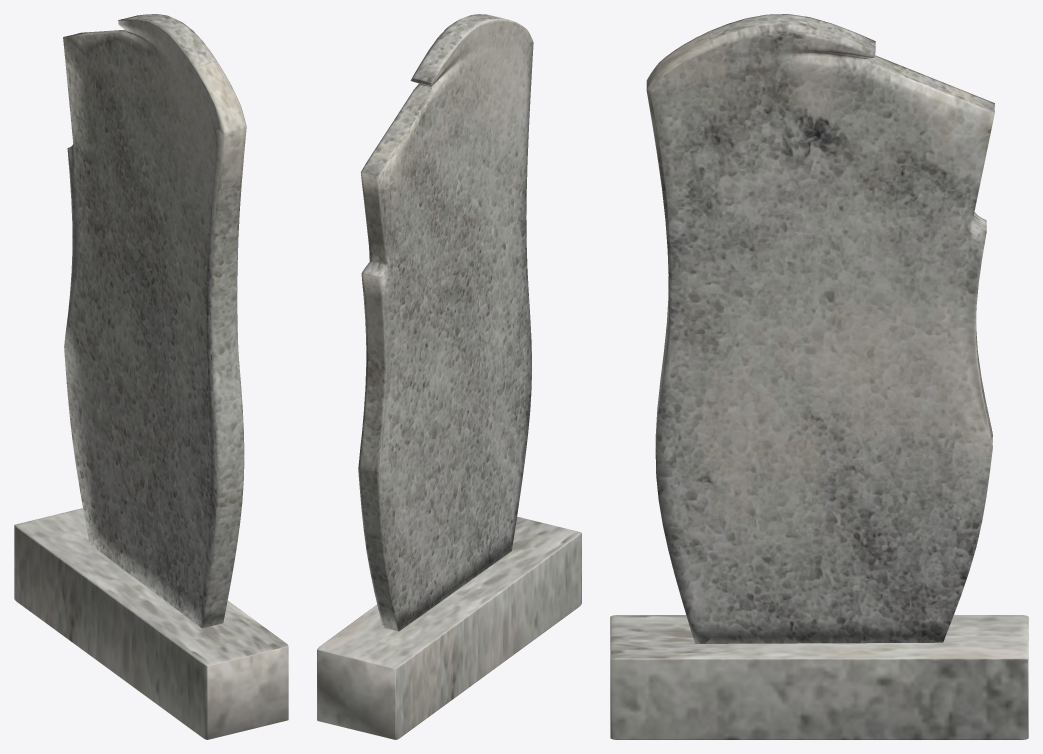
The model's file is Памятник Тюльпан 2 [marble_1_standard] (100).glb.
The picture shows the model from 3 angles, left to right: view 1: azimuth 30°, elevation 25°; view 2: azimuth 150°, elevation 25°; view 3: azimuth 270°, elevation 25°; orthographic projection. The views are drawn at different scales.
Visible parts, largest first — view 1: Cube.044, Куб.093; view 2: Cube.044, Куб.093; view 3: Cube.044, Куб.093.
Boxes of the visible parts, box(x1,y1,x2,y2) form: Cube.044: box(63, 14, 246, 628); Куб.093: box(14, 508, 288, 739); Cube.044: box(358, 14, 533, 631); Куб.093: box(317, 516, 581, 739); Cube.044: box(646, 14, 994, 643); Куб.093: box(610, 615, 1028, 739).
Bounding box in the file's own units: 0.15 × 1.11 × 0.6.
1 material, 1 textured.
